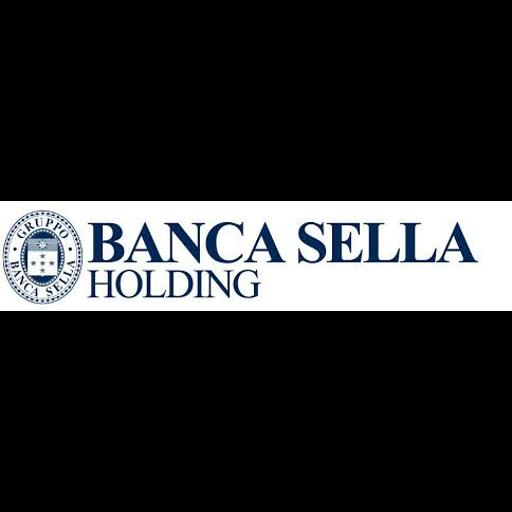Banca Sella: (0, 201, 512, 311)
